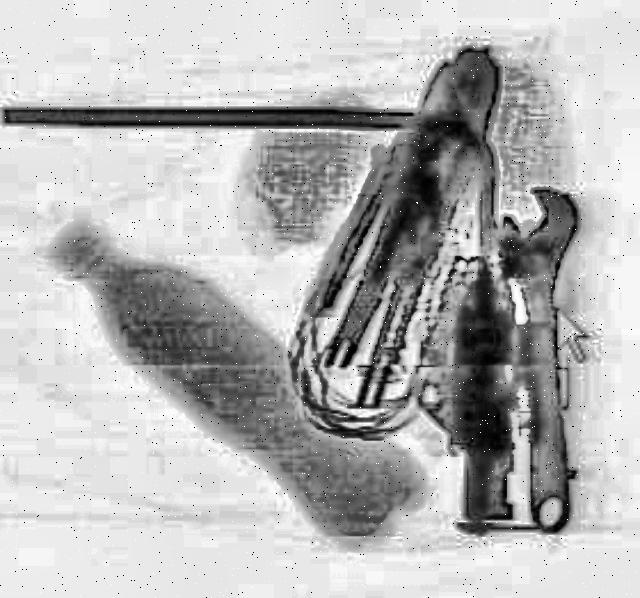Wrench: (492, 184, 586, 533)
